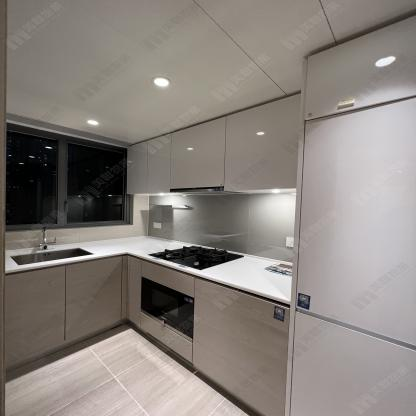Cupboard: (128, 90, 303, 197), (4, 253, 128, 371)
Exhaust Hood: (170, 186, 249, 194), (171, 186, 241, 195)
Faucet: (39, 226, 55, 249)
Oven: (136, 277, 198, 343), (140, 276, 194, 343)
Sink: (5, 245, 107, 268), (14, 248, 93, 265)
Stove: (136, 242, 249, 275), (149, 244, 243, 270)
